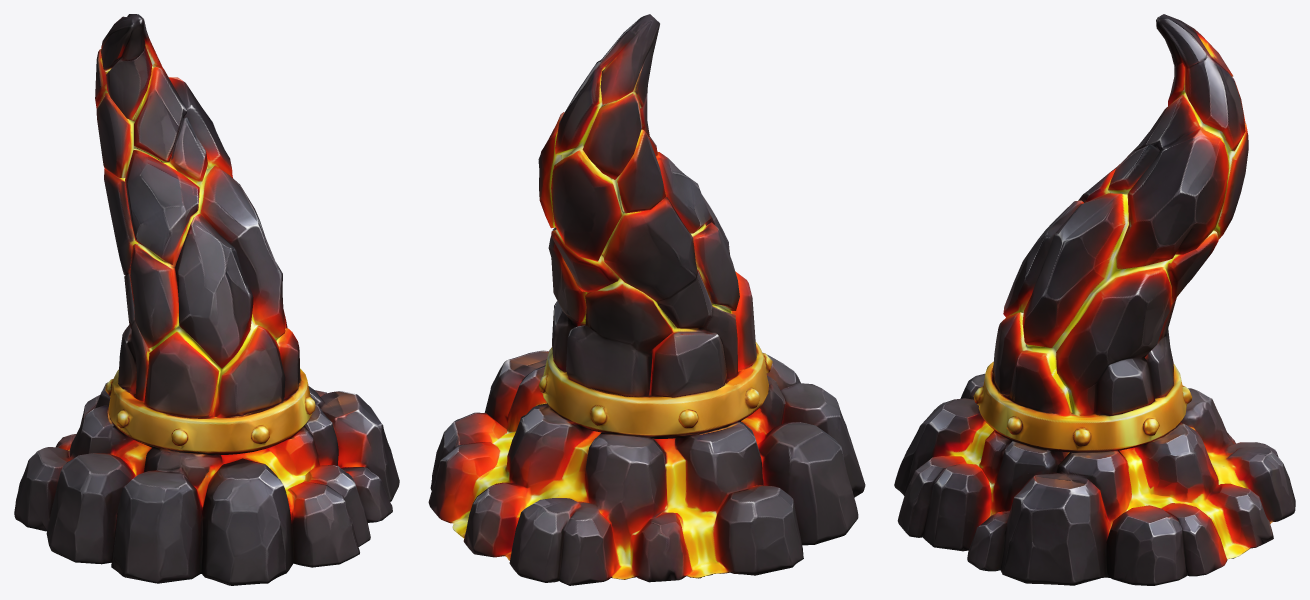
The model's file is Town_Horns_SpikeRock_HD_src.glb.
3 renders of one model, left to right at view 1: azimuth 30°, elevation 25°; view 2: azimuth 150°, elevation 25°; view 3: azimuth 270°, elevation 25°, orthographic. The views are drawn at different scales.
Visible parts, largest first — view 1: tripo_node_db101e3b-5da9-4c40-9473-3438a27f1ad2; view 2: tripo_node_db101e3b-5da9-4c40-9473-3438a27f1ad2; view 3: tripo_node_db101e3b-5da9-4c40-9473-3438a27f1ad2.
Boxes of the visible parts, x1,y1,x2,y2 form: tripo_node_db101e3b-5da9-4c40-9473-3438a27f1ad2: (14, 14, 399, 585); tripo_node_db101e3b-5da9-4c40-9473-3438a27f1ad2: (428, 14, 865, 585); tripo_node_db101e3b-5da9-4c40-9473-3438a27f1ad2: (894, 14, 1295, 585).
Bounding box in the file's own units: 0.7234 × 0.9825 × 0.7512.
Materials: 1 (1 with a texture image).
